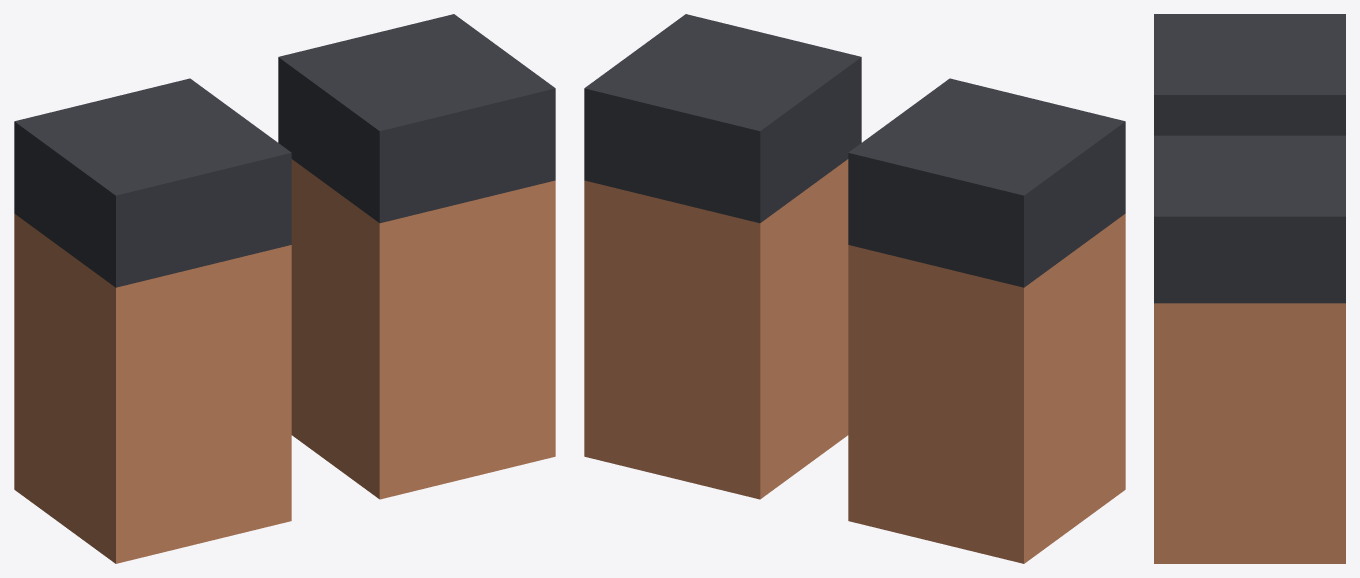
Rendered from piles.glb.
3 renders of one model, left to right at view 1: azimuth 30°, elevation 25°; view 2: azimuth 150°, elevation 25°; view 3: azimuth 270°, elevation 25°, orthographic. The views are drawn at different scales.
Visible parts, largest first — view 1: main; view 2: main; view 3: main.
Part boxes in pixels (bbox=[...]): main: bbox=[14, 14, 555, 563]; main: bbox=[584, 14, 1125, 563]; main: bbox=[1154, 14, 1345, 563].
Size of the model in its own units: 0.3125 by 0.25 by 0.125.
